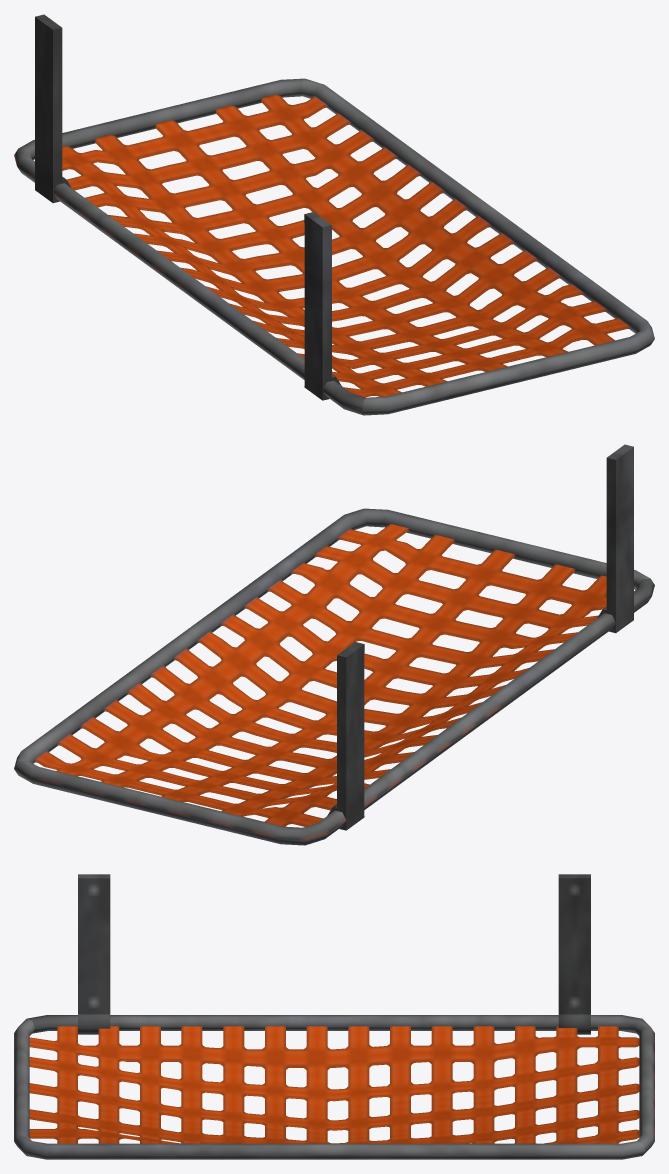
The model's file is cot_bed.obj.
3 views of the same model, one above another, from view 1: azimuth 30°, elevation 25°; view 2: azimuth 150°, elevation 25°; view 3: azimuth 270°, elevation 25° (orthographic). The views are drawn at different scales.
Parts seen in each view (by area): view 1: cot_lines, cot; view 2: cot_lines, cot; view 3: cot_lines, cot.
Boxes of the visible parts, bbox=[...] form: cot_lines: bbox=[62, 94, 631, 397]; cot: bbox=[14, 14, 654, 415]; cot_lines: bbox=[33, 524, 606, 826]; cot: bbox=[14, 444, 654, 845]; cot_lines: bbox=[29, 1026, 639, 1143]; cot: bbox=[14, 874, 654, 1159].
Size of the model in its own units: 0.9996 by 0.6366 by 2.
